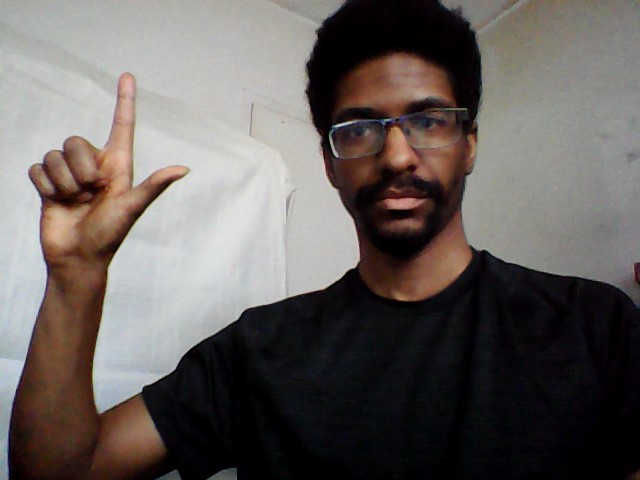l: (26, 69, 194, 259)
